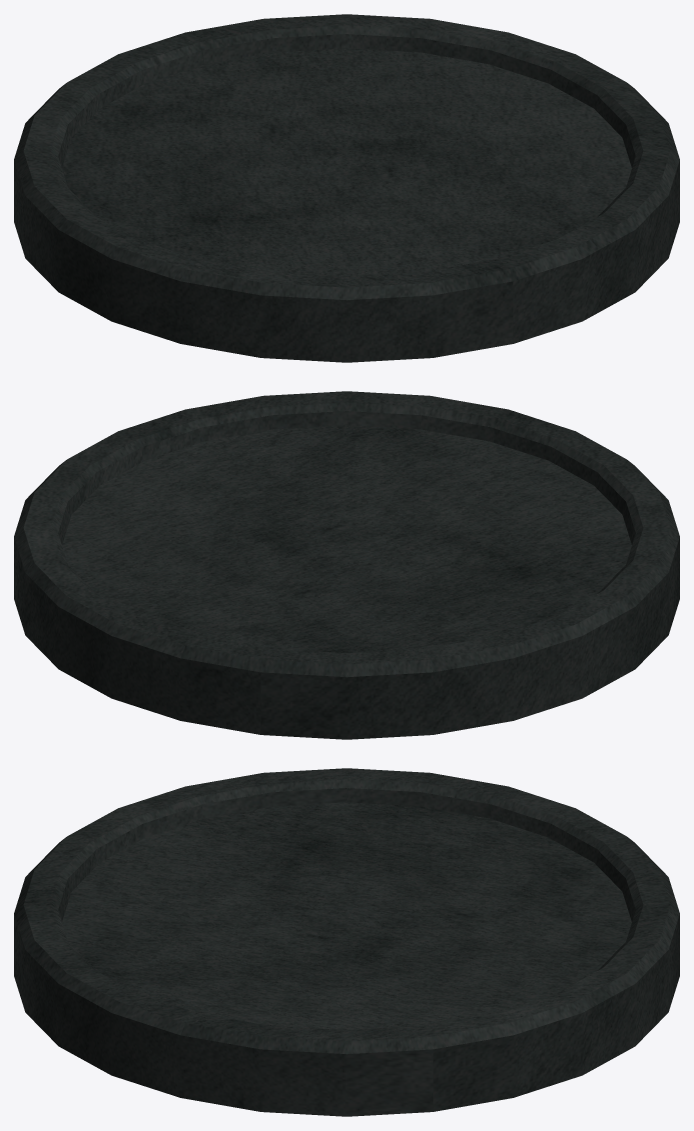
The model's file is Lid.fbx.
The picture shows the model from 3 angles, top to bottom: view 1: azimuth 30°, elevation 25°; view 2: azimuth 150°, elevation 25°; view 3: azimuth 270°, elevation 25°; orthographic projection.
Parts seen in each view (by area): view 1: Circle; view 2: Circle; view 3: Circle.
Boxes of the visible parts, x1,y1,x2,y2 form: Circle: (14,14,679,362); Circle: (14,391,679,739); Circle: (14,768,679,1116).
Size of the model in its own units: 2 by 0.2358 by 2.
